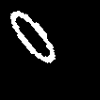chain: (11, 11, 54, 62)
